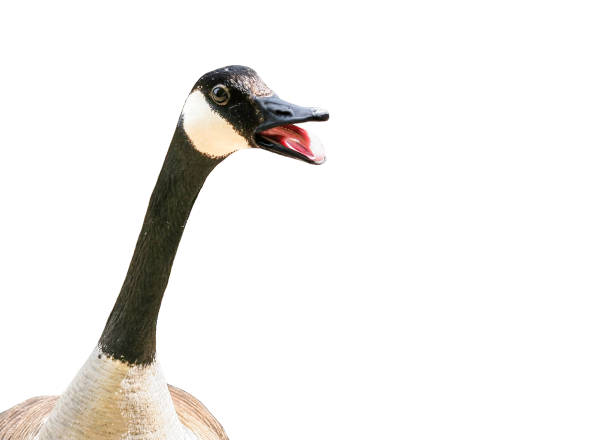goose: (1, 61, 333, 440)
